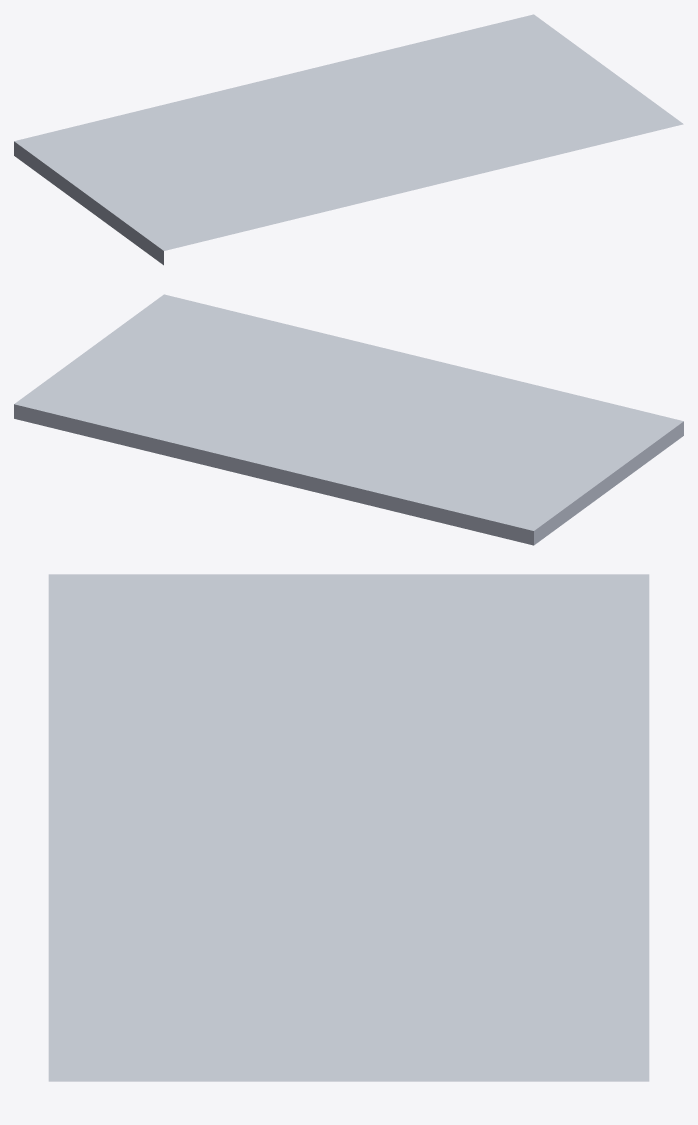
Rendered from Env_Ground4_6.fbx.
3 renders of one model, top to bottom at view 1: azimuth 30°, elevation 25°; view 2: azimuth 150°, elevation 25°; view 3: azimuth 270°, elevation 25°, orthographic. The views are drawn at different scales.
Parts seen in each view (by area): view 1: Env_Ground_6; view 2: Env_Ground_6; view 3: Env_Ground_6.
Boxes of the visible parts, x1=… form: Env_Ground_6: x1=14, y1=14, x2=683, y2=265; Env_Ground_6: x1=14, y1=294, x2=683, y2=545; Env_Ground_6: x1=48, y1=574, x2=649, y2=1081.
Size of the model in its own units: 6000 by 160 by 3000.
1 material, 1 textured.
